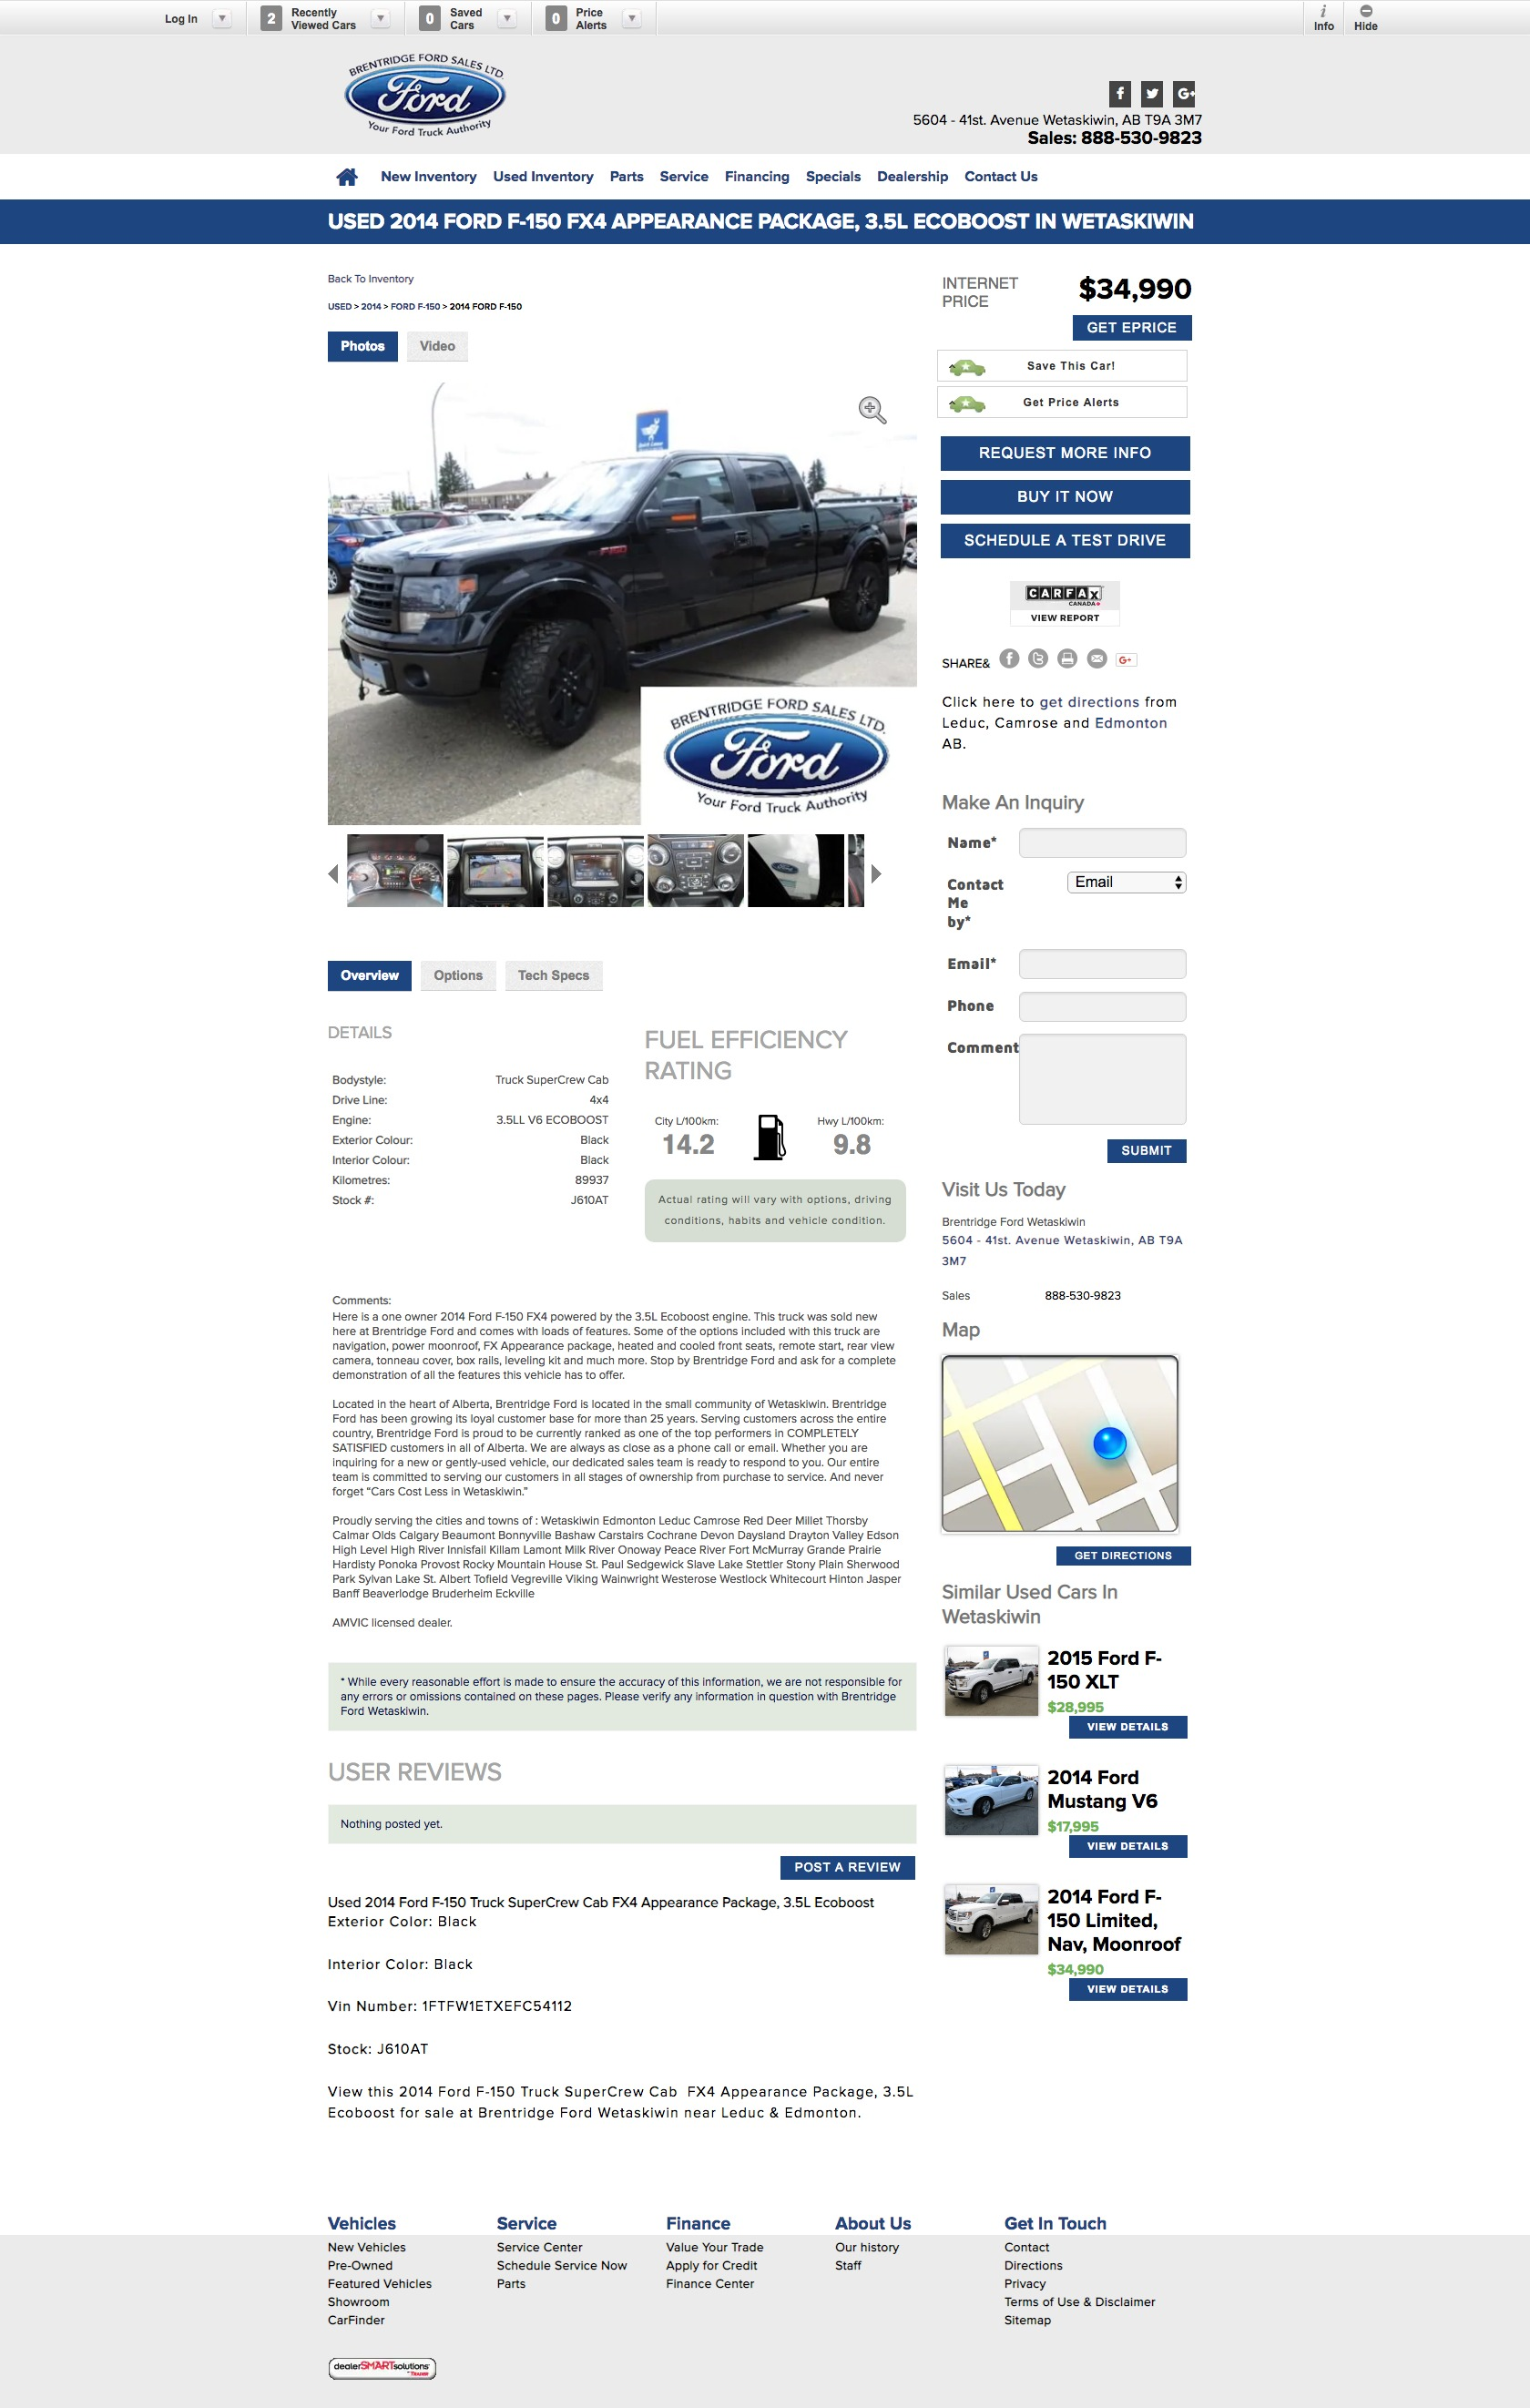car: (870, 864, 883, 885)
